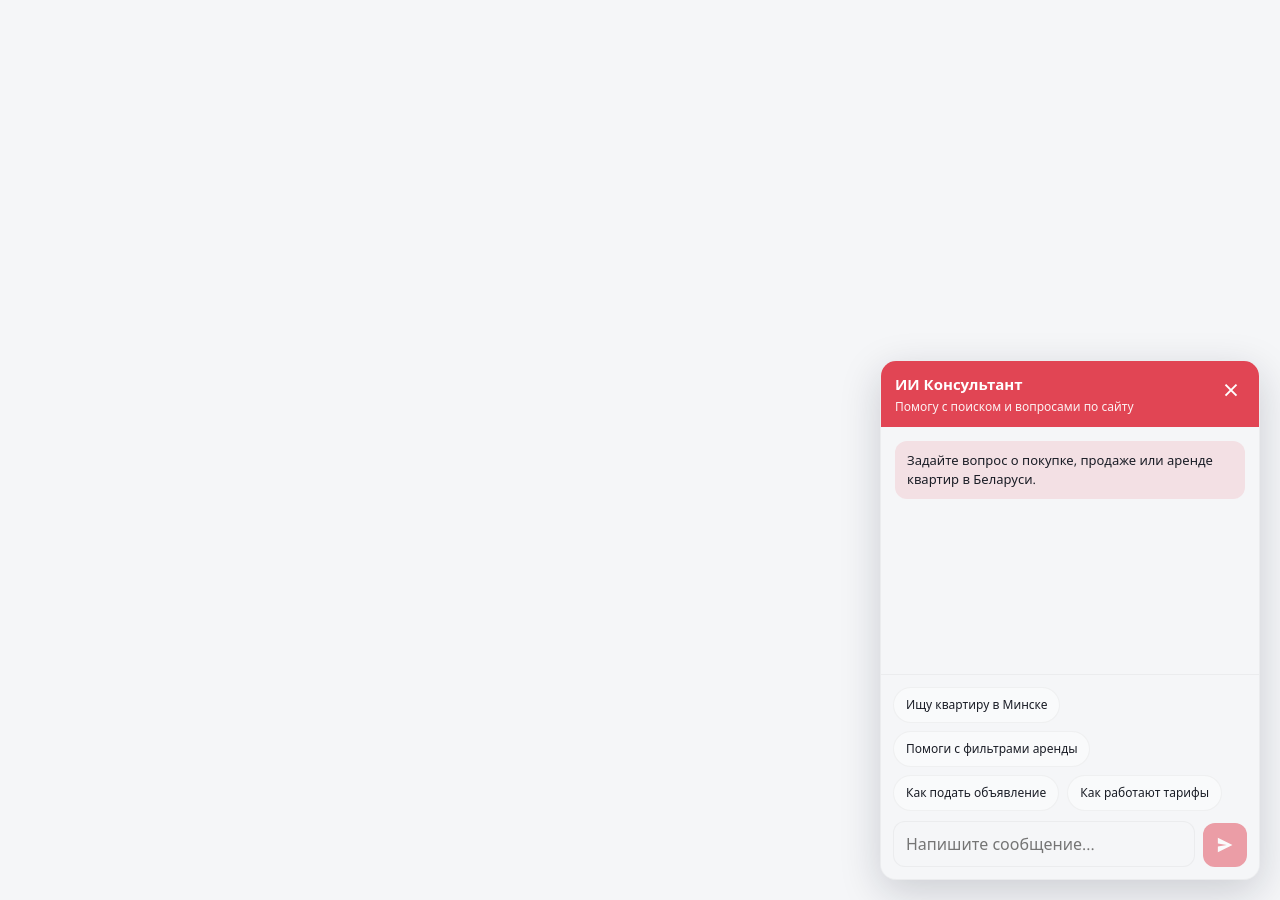
Scenario: AiChatWidget › sends a quick reply message
What coordinates should you click on to do the following:
click the button with class "ai-chat__quick-btn" showing "Ищу квартиру в Минске"
I would click on:
 (977, 705)
Its box is [893,687,1060,723].
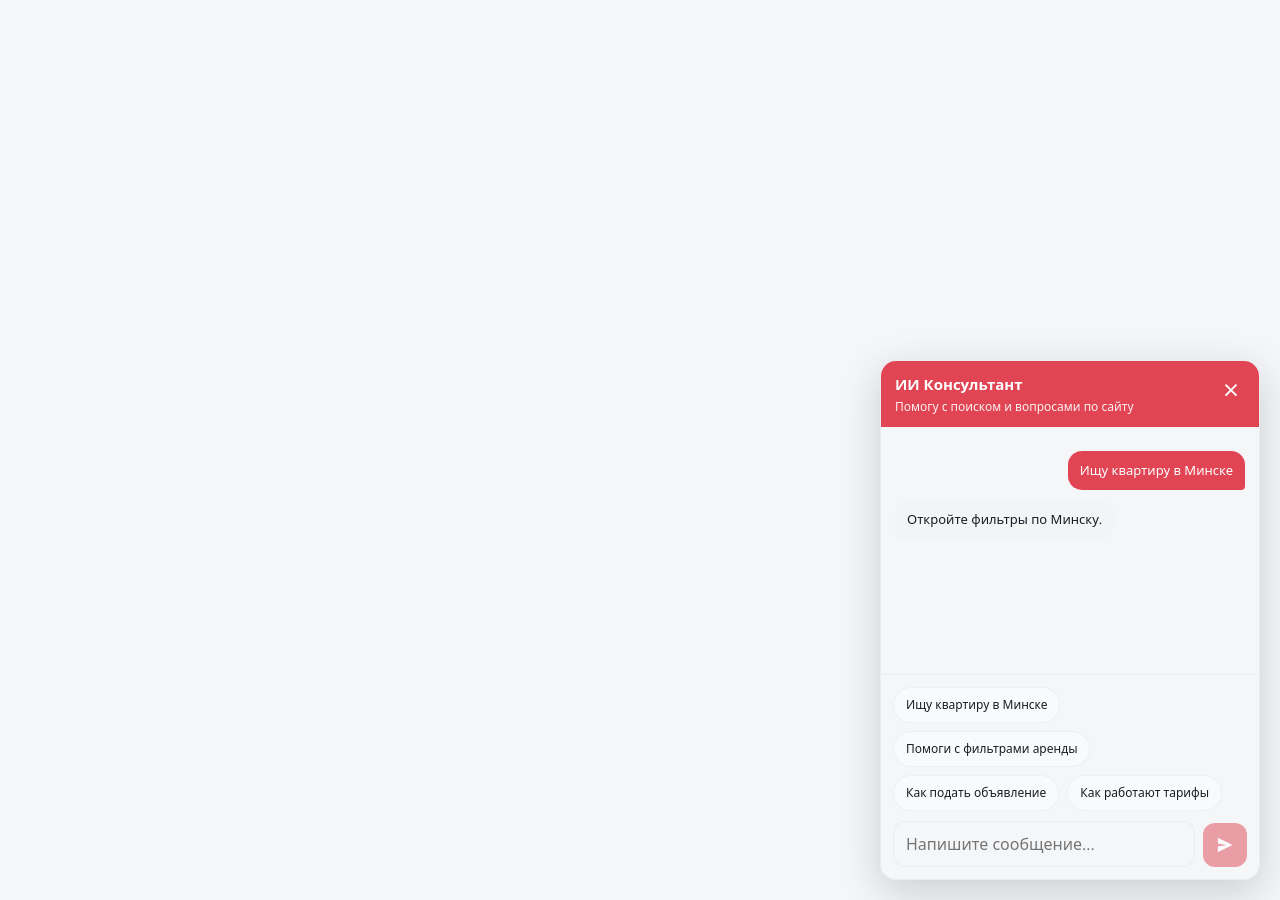
Now the text "Откройте фильтры по Минску." is shown, box [895,500,1114,539]
